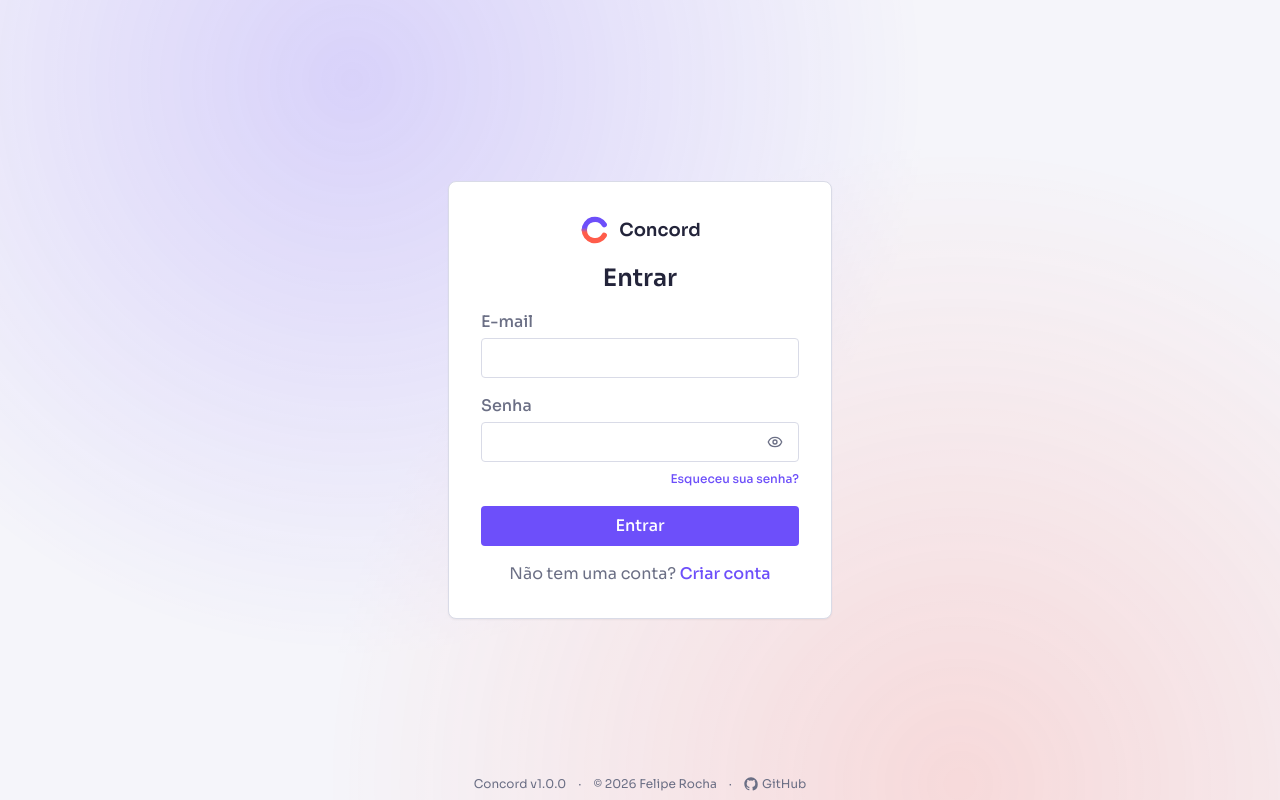
it: LoginPage › shows the backend error message when the mutation fails
Type "a@b.com" into the field labelled "E-mail". click: [640, 358]
box: [481,338,799,378]
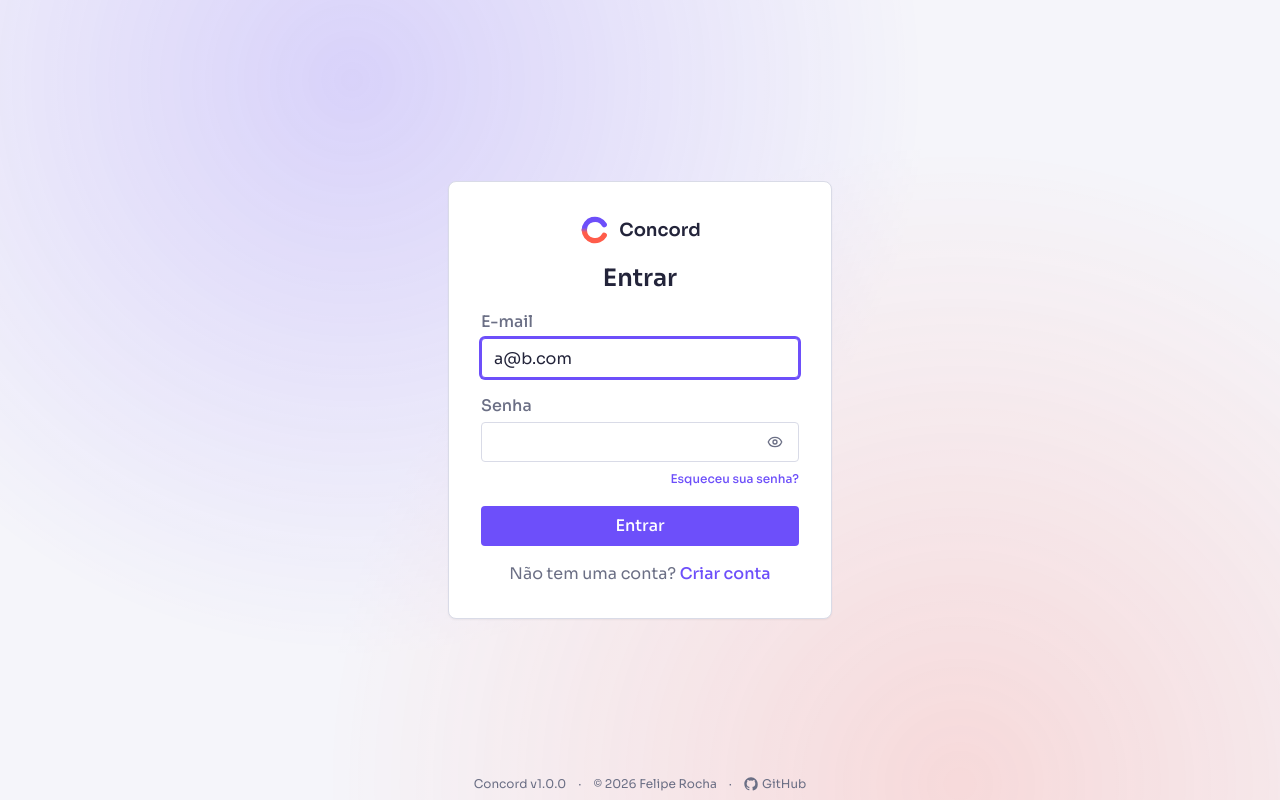
Type "wrongpassword" into the password field labelled "Senha". click: [640, 442]
box: [481,422,799,462]
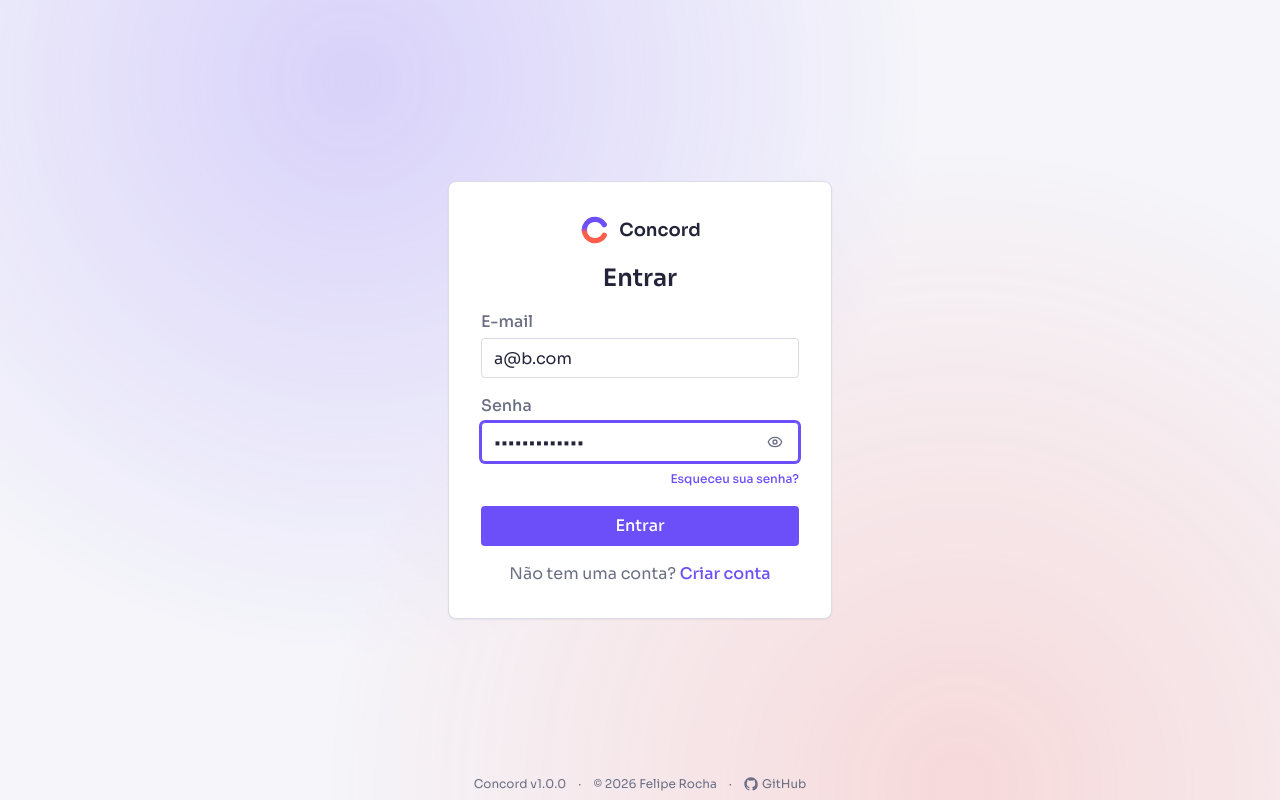
Click the button "Entrar". click: [640, 526]
box: [481,506,799,546]
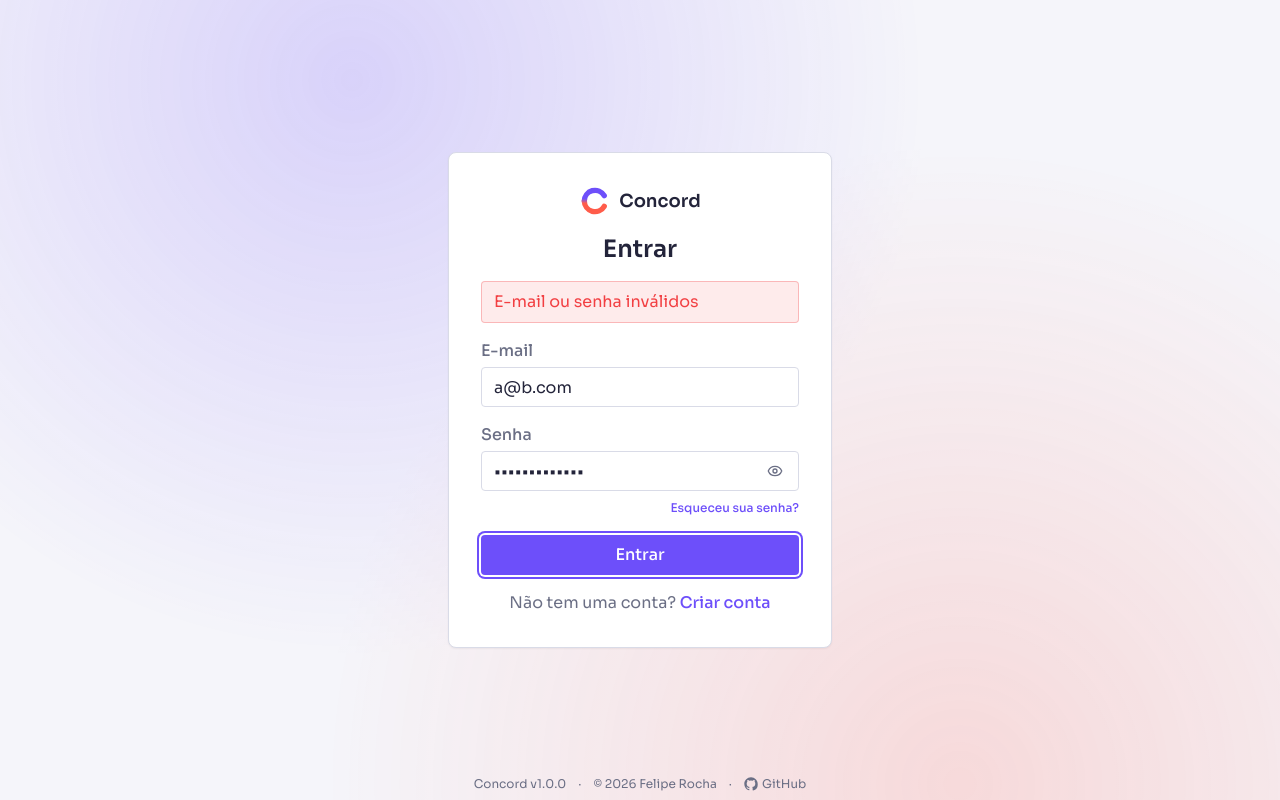
expect the message reads "E-mail ou senha inválidos": met, box [494,291,699,312]
